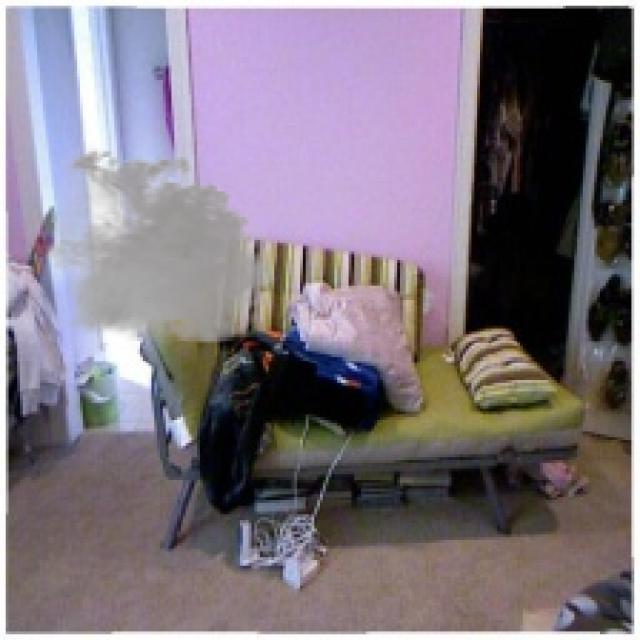Smoke: (28, 142, 283, 352)
